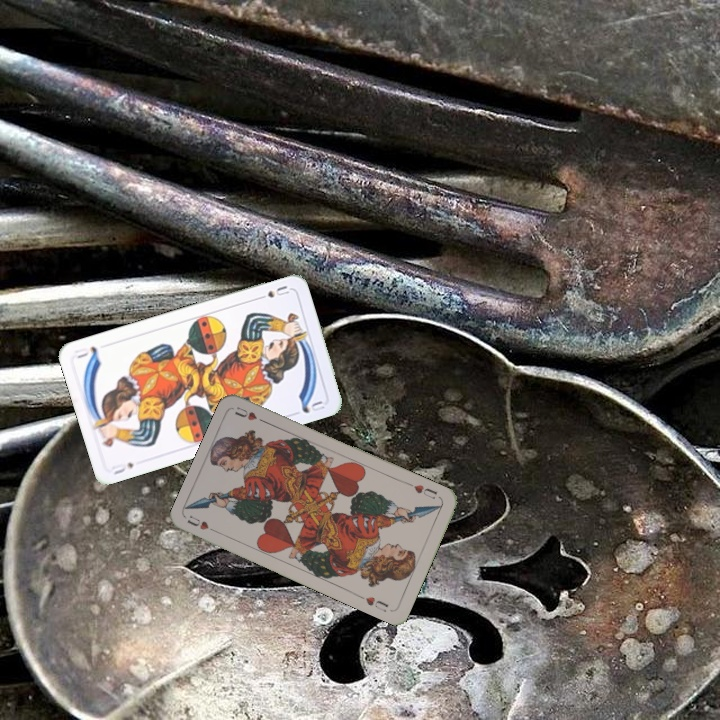HU: (183, 511, 221, 536), (410, 480, 440, 502)
SU: (252, 281, 292, 303), (108, 458, 136, 477)
